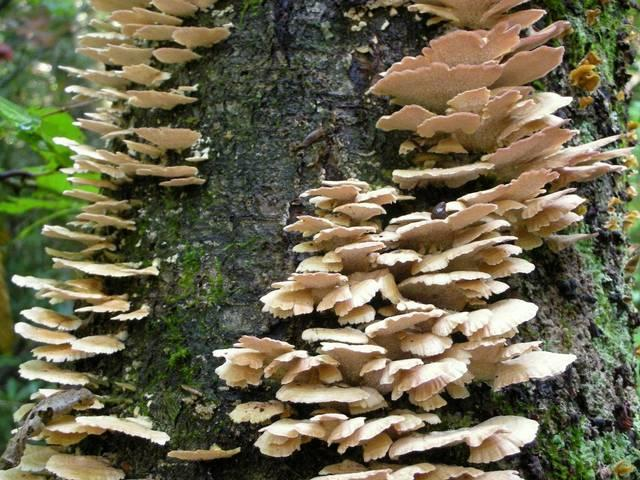Non-edible Mushroom: (210, 1, 632, 477), (21, 0, 261, 480)
